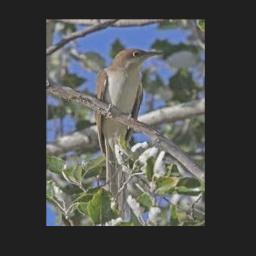Cuckoo: (95, 49, 163, 216)
